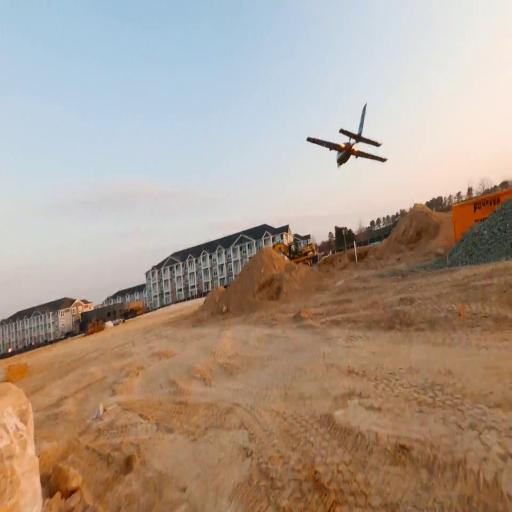uav: (305, 100, 389, 179)
